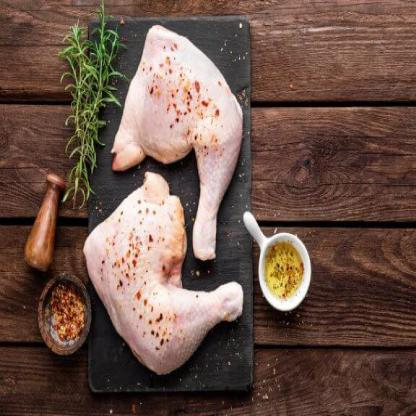chicken: (100, 20, 244, 262), (83, 174, 241, 370)
